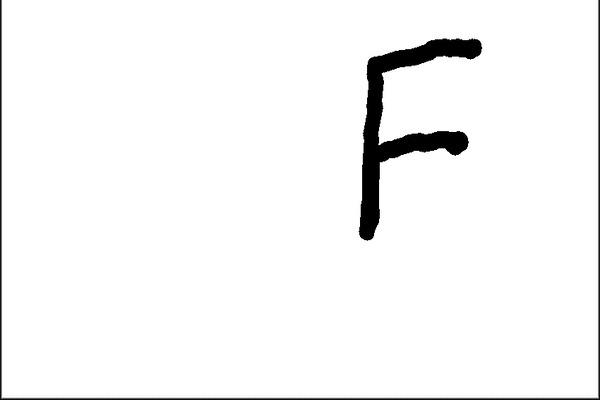F: (351, 34, 485, 243)
